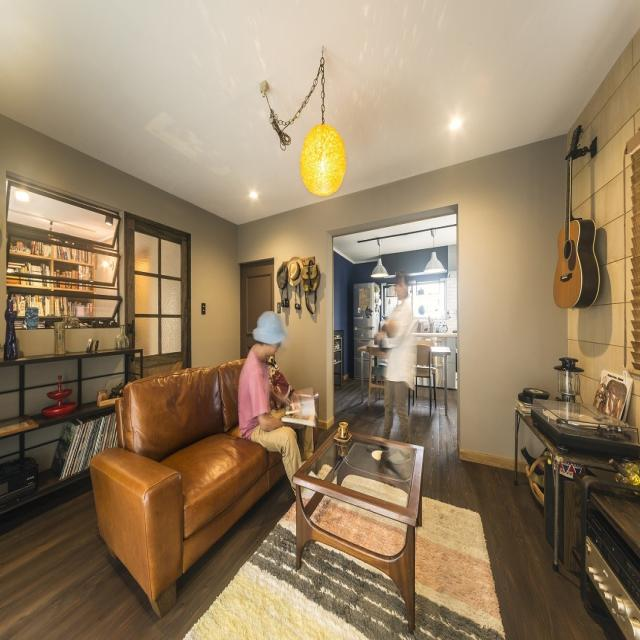vintage desk: (298, 424, 432, 634)
vintage sofa: (91, 351, 273, 594)
